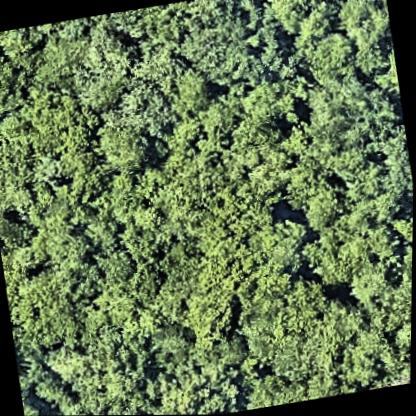tree-top: (242, 277, 364, 392), (0, 93, 105, 226), (0, 205, 103, 339), (62, 23, 178, 133), (146, 143, 246, 244), (212, 82, 303, 189), (300, 203, 402, 297), (162, 240, 244, 350), (298, 68, 392, 160), (68, 328, 159, 416), (177, 2, 259, 88), (95, 222, 170, 300), (139, 361, 246, 415), (87, 100, 158, 179), (251, 205, 318, 280), (249, 34, 312, 104), (302, 27, 362, 87), (333, 0, 393, 56), (370, 125, 415, 199), (377, 273, 413, 359), (241, 364, 305, 411), (149, 318, 199, 375), (170, 61, 218, 120), (263, 0, 332, 38), (0, 30, 26, 126), (106, 166, 155, 216), (372, 44, 401, 104), (19, 375, 46, 416), (391, 208, 414, 245), (399, 238, 413, 291), (29, 407, 98, 416)
